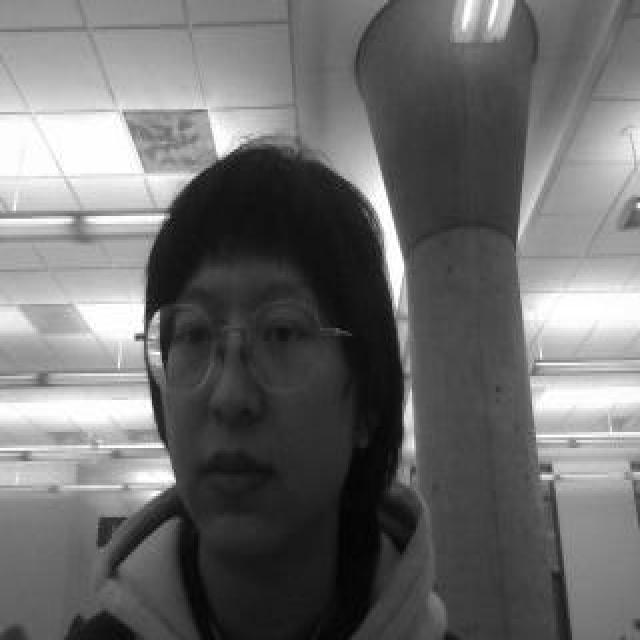Focused: (138, 235, 336, 538)
